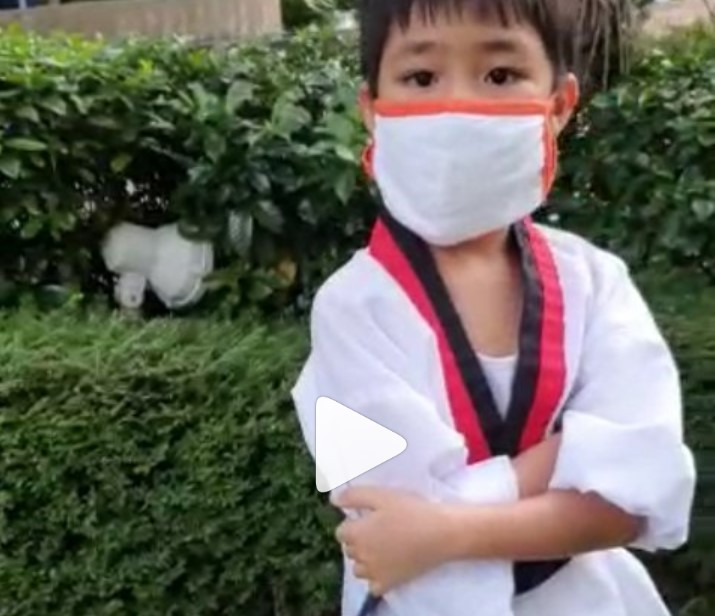face_with_mask: (359, 5, 579, 247)
